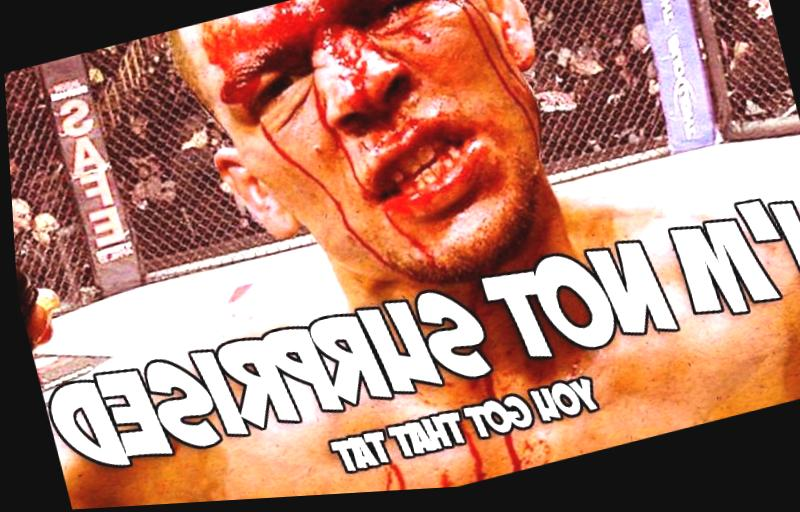Fire: (200, 0, 537, 279), (459, 405, 515, 478), (461, 439, 479, 487), (378, 467, 399, 496), (434, 475, 445, 493)
